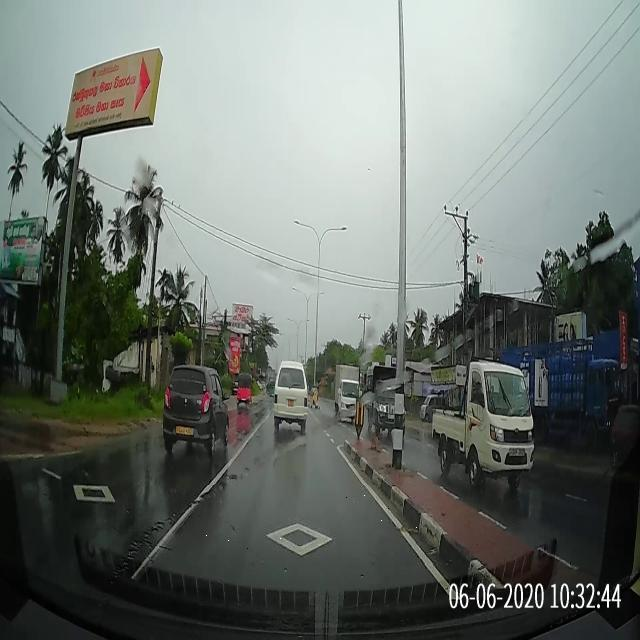diamond: (137, 486, 443, 564)
